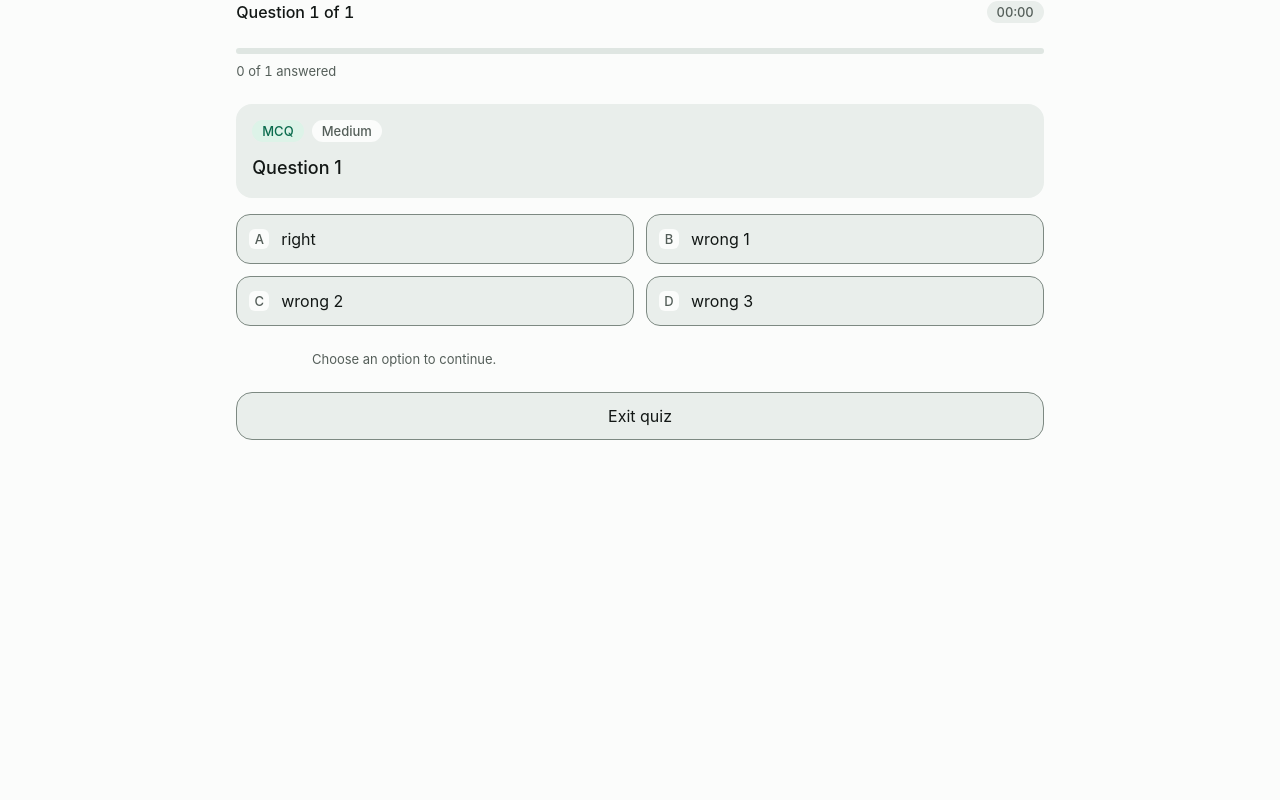
QuizRunner › asks before leaving and explains what happens to the current session
What coordinates should you click on to do the following:
click the button "Exit quiz"
I would click on:
 (640, 416)
Its box is [236,392,1044,440].
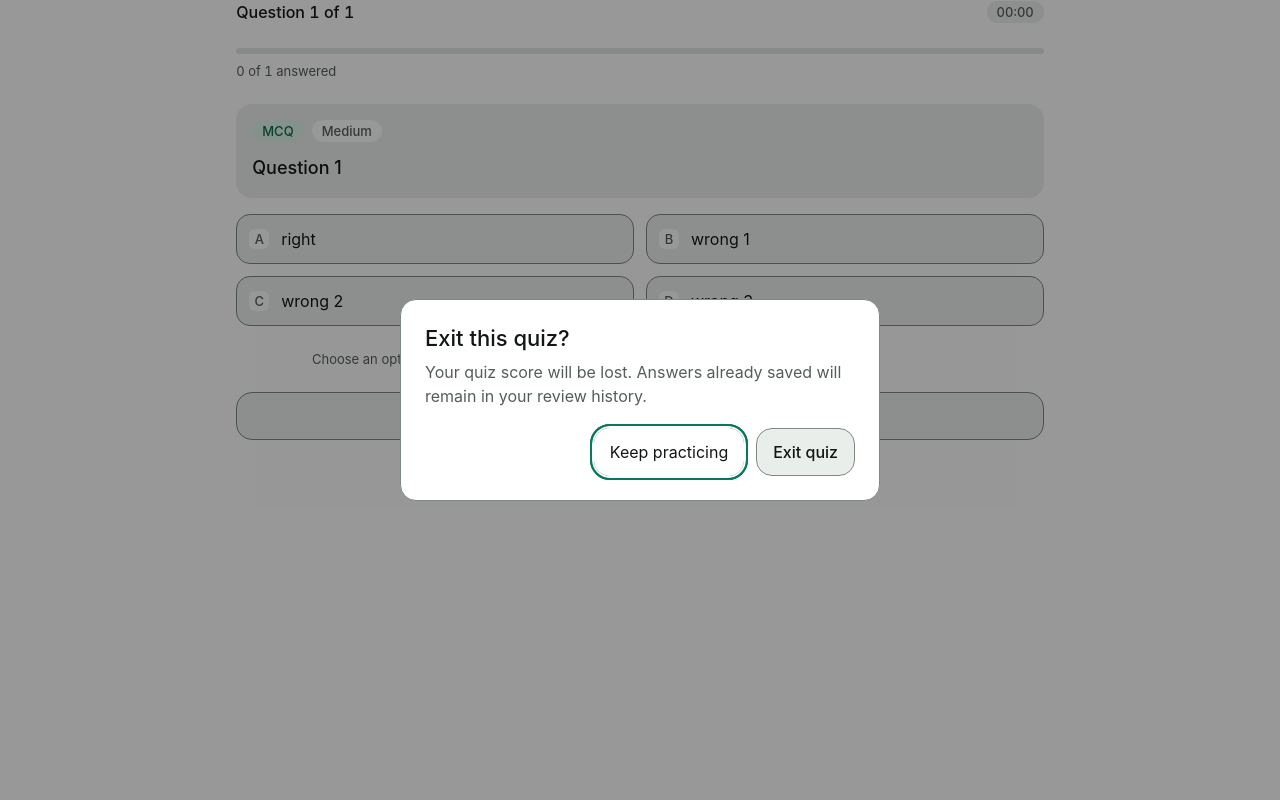
Expected: the text "Your quiz score will be lost" is shown, [425,362,841,406]
Expected: the text "Answers already saved will remain in your review history." is shown, [425,362,841,406]
Expected: the link to "/back" reads "Exit quiz", [756,428,855,476]
